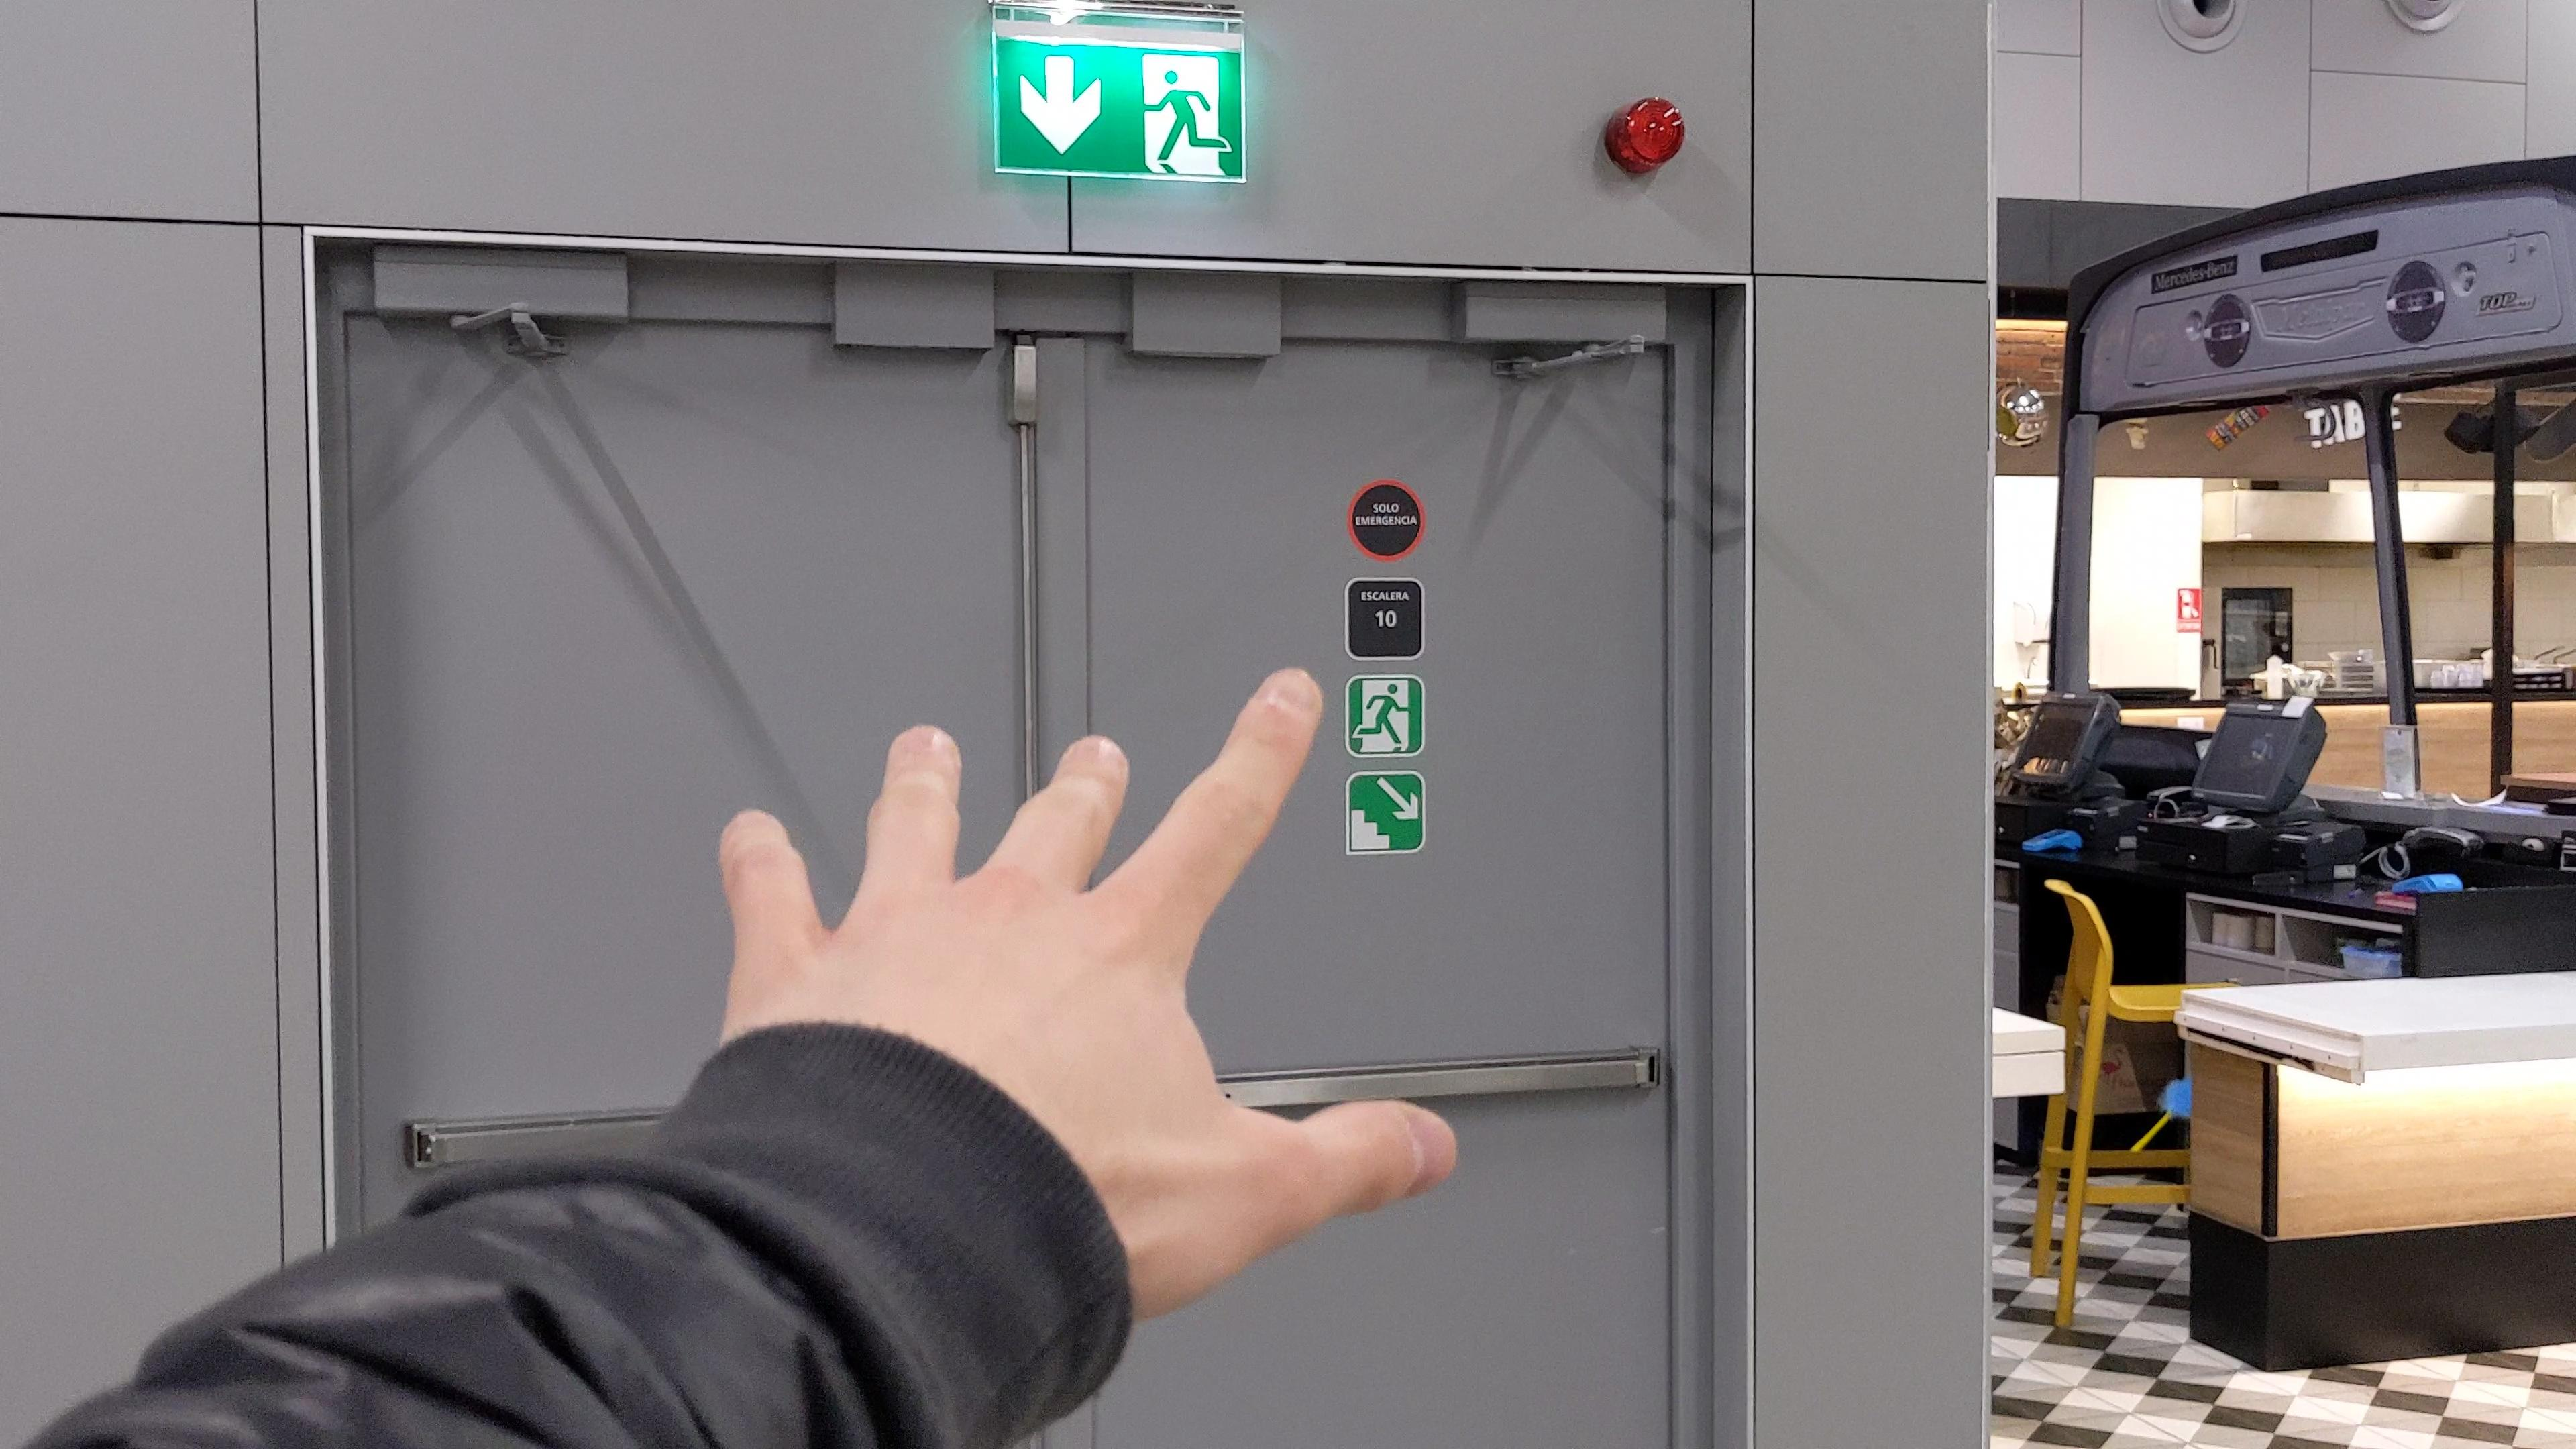emergency down arrow: (1014, 48, 1108, 154)
emergency exit: (1123, 42, 1244, 188), (1353, 678, 1422, 759)
